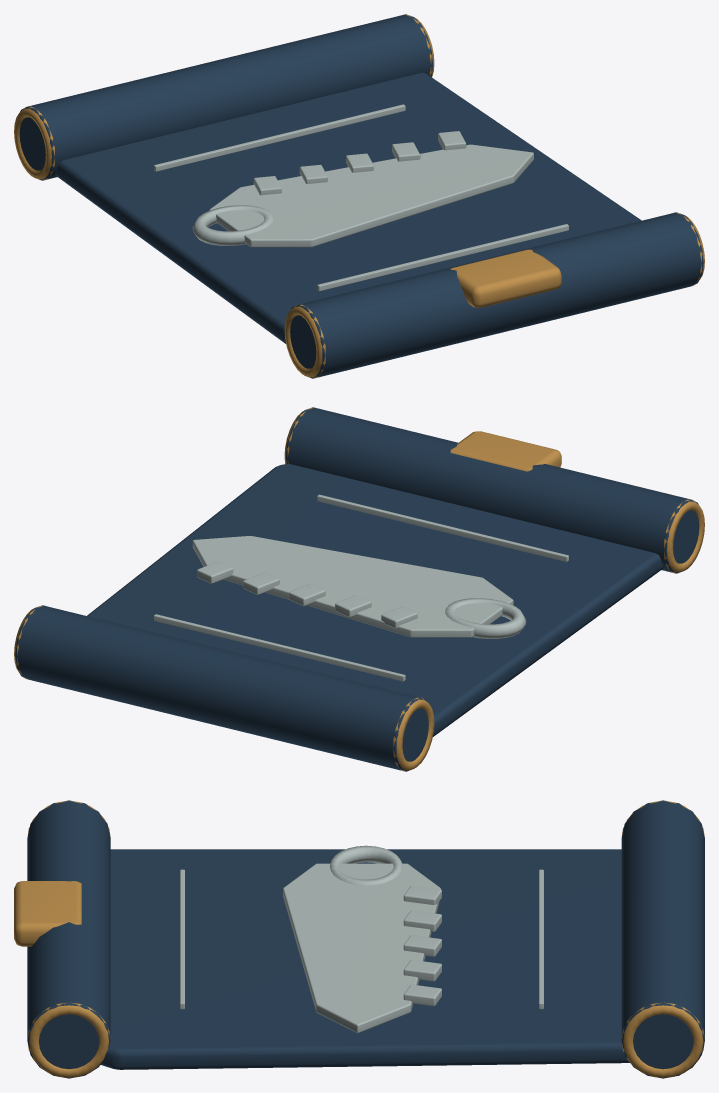
File: bp_chainsaw.glb
3 views of the same model, one above another, from view 1: azimuth 30°, elevation 25°; view 2: azimuth 150°, elevation 25°; view 3: azimuth 270°, elevation 25° (orthographic). The views are drawn at different scales.
Visible parts, largest first — view 1: SM_bp_chainsaw; view 2: SM_bp_chainsaw; view 3: SM_bp_chainsaw.
Boxes of the visible parts, x1=… form: SM_bp_chainsaw: x1=14, y1=14, x2=704, y2=378; SM_bp_chainsaw: x1=14, y1=407, x2=704, y2=771; SM_bp_chainsaw: x1=14, y1=800, x2=704, y2=1078.
Bounding box in the file's own units: 0.2963 × 0.05 × 0.414.
